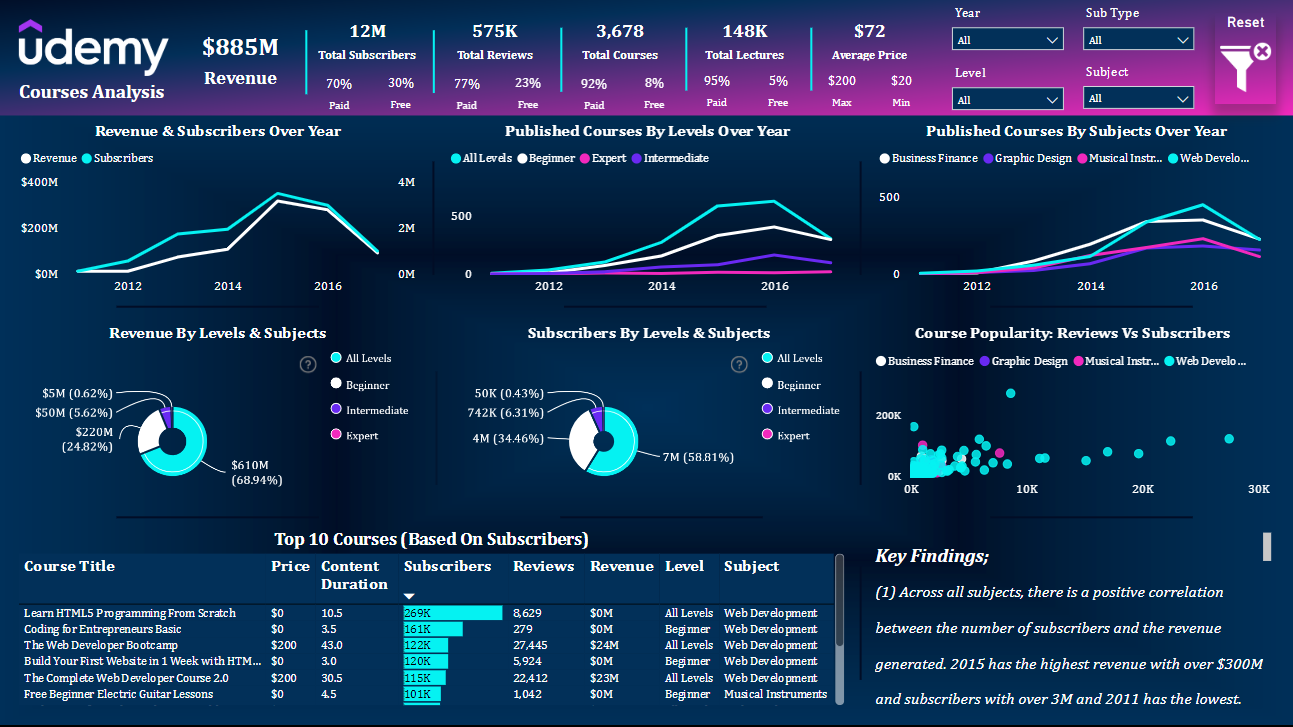

What the dashboard file says about the page in this screenshot:
{"tool":"powerbi","page":{"name":"Udemy Courses Analysis","canvas":[1280,720],"ordinal":0},"visuals":[{"type":"slicer","fields":{"Values":["Onyx Data -DataDNA Dataset Chal.published_date.Variation.Date Hierarchy.Year"]},"box":[930.5,0,130.5,60],"z":0},{"type":"slicer","fields":{"Values":["Onyx Data -DataDNA Dataset Chal.level"]},"box":[930.5,59,130.5,61],"z":1000},{"type":"slicer","fields":{"Values":["Onyx Data -DataDNA Dataset Chal.subject"]},"box":[1061,58.5,129.7,61.5],"z":2000},{"type":"slicer","fields":{"Values":["Onyx Data -DataDNA Dataset Chal.Paid or Free"]},"box":[1060.1,0,130,60],"z":3000},{"type":"card","fields":{"Values":["Measurement.Average Price"]},"box":[800,13.3,120,52.4],"z":4000},{"type":"group","id":"g1","title":"Group 2","box":[14.5,13.3,161.6,114.6],"z":5000},{"type":"card","fields":{"Values":["Measurement.Revenue"]},"box":[178.5,0,119.4,115.8],"z":6000},{"type":"card","fields":{"Values":["Measurement.Total Subscribers"]},"box":[303.9,13.3,120,52],"z":7000},{"type":"card","fields":{"Values":["Measurement.Total Lectures"]},"box":[677,13,120,52],"z":8000},{"type":"card","fields":{"Values":["Measurement.Maximum Price"]},"box":[802,64.7,60,50],"z":9000},{"type":"card","fields":{"Values":["Measurement.Total Review"]},"box":[429.3,13.3,120,52],"z":10000},{"type":"card","fields":{"Values":["Measurement.Total Courses"]},"box":[553.6,13.3,120,52],"z":11000},{"type":"image","title":"Reset","box":[1201.2,13.3,60.3,90.5],"z":12000},{"type":"ZoomChartsPieChartPaidE77E4ED357DC402ABA005987437CF500","title":"Revenue By Levels & Subjects","fields":{"Category":["Onyx Data -DataDNA Dataset Chal.level","Onyx Data -DataDNA Dataset Chal.subject"],"Values":["Measurement.Revenue"]},"box":[16.2,320,400,180],"z":13000},{"type":"ZoomChartsPieChartPaidE77E4ED357DC402ABA005987437CF500","title":"Subscribers By Levels & Subjects","fields":{"Category":["Onyx Data -DataDNA Dataset Chal.level","Onyx Data -DataDNA Dataset Chal.Paid or Free","Onyx Data -DataDNA Dataset Chal.subject"],"Values":["Measurement.Total Subscribers"]},"box":[442.5,320,400,180],"z":14000},{"type":"lineChart","title":"Revenue & Subscribers Over Year","fields":{"Category":["Onyx Data -DataDNA Dataset Chal.published_date.Variation.Date Hierarchy.Year","Onyx Data -DataDNA Dataset Chal.published_date.Variation.Date Hierarchy.Quarter","Onyx Data -DataDNA Dataset Chal.published_date.Variation.Date Hierarchy.Month","Onyx Data -DataDNA Dataset Chal.published_date.Variation.Date Hierarchy.Day"],"Y2":["Measurement.Total Subscribers"],"Y":["Measurement.Revenue"]},"box":[15.6,120,400,180],"z":15000},{"type":"lineChart","title":"Published Courses By Levels Over Year","fields":{"Category":["Onyx Data -DataDNA Dataset Chal.published_date.Variation.Date Hierarchy.Year","Onyx Data -DataDNA Dataset Chal.published_date.Variation.Date Hierarchy.Quarter","Onyx Data -DataDNA Dataset Chal.published_date.Variation.Date Hierarchy.Month","Onyx Data -DataDNA Dataset Chal.published_date.Variation.Date Hierarchy.Day"],"Series":["Onyx Data -DataDNA Dataset Chal.level"],"Y":["Measurement.Total Courses"]},"box":[441.2,120,400,180],"z":16000},{"type":"image","box":[14.5,13.3,157.9,69.2],"z":17000,"group":"g1"},{"type":"lineChart","title":"Published Courses By Subjects Over Year","fields":{"Category":["Onyx Data -DataDNA Dataset Chal.published_date.Variation.Date Hierarchy.Year","Onyx Data -DataDNA Dataset Chal.published_date.Variation.Date Hierarchy.Quarter","Onyx Data -DataDNA Dataset Chal.published_date.Variation.Date Hierarchy.Month","Onyx Data -DataDNA Dataset Chal.published_date.Variation.Date Hierarchy.Day"],"Series":["Onyx Data -DataDNA Dataset Chal.subject"],"Y":["Measurement.Total Courses"]},"box":[863.8,120,400,180],"z":17000},{"type":"textbox","box":[14.5,64,161.6,63.9],"z":18000,"group":"g1"},{"type":"scatterChart","title":"Course Popularity: Reviews Vs Subscribers","fields":{"Y":["Measurement.Total Subscribers"],"X":["Measurement.Total Review"],"Series":["Onyx Data -DataDNA Dataset Chal.subject"],"Category":["Onyx Data -DataDNA Dataset Chal.course_title"]},"box":[861.1,320,400,180],"z":18000},{"type":"pivotTable","title":"Top 10 Courses (Based On Subscribers)","fields":{"Rows":["Onyx Data -DataDNA Dataset Chal.course_title"],"Values":["Sum(Onyx Data -DataDNA Dataset Chal.price)","Sum(Onyx Data -DataDNA Dataset Chal.content_duration)","Measurement.Total Subscribers","Measurement.Total Review","Measurement.Revenue","Min(Onyx Data -DataDNA Dataset Chal.level)","Min(Onyx Data -DataDNA Dataset Chal.subject)"]},"box":[15,522.5,825,180],"z":19000},{"type":"textbox","box":[860,522.5,401.2,181.2],"z":20000},{"type":"shape","box":[116,287.5,200,32.5],"z":21000},{"type":"shape","box":[116.2,496.2,200,31.2],"z":22000},{"type":"shape","box":[558,287.5,200,32.5],"z":23000},{"type":"shape","box":[553.8,496.2,200,31.2],"z":24000},{"type":"shape","box":[979,287.5,200,32.5],"z":25000},{"type":"shape","box":[978.8,496.2,200,31.2],"z":26000},{"type":"shape","box":[416,160,26,112],"z":27000},{"type":"shape","box":[840,160,23,112],"z":28000},{"type":"shape","box":[416,368,32,112],"z":29000},{"type":"shape","box":[840,368,23,112],"z":30000},{"type":"shape","box":[840,560,23,112],"z":31000},{"type":"card","fields":{"Values":["Measurement.Minimum Price"]},"box":[863.3,64.7,56.7,50],"z":32000},{"type":"card","fields":{"Values":["Measurement.Percentage Of Paid Courses Lectures"]},"box":[679.3,64.7,60,50],"z":33000},{"type":"card","fields":{"Values":["Measurement.Percentage Of Free Courses Lectures"]},"box":[739.3,64.7,60,50],"z":34000},{"type":"shape","box":[298,30.7,12,63.3],"z":37000},{"type":"shape","box":[423,30.7,12,62],"z":38000},{"type":"shape","box":[549.1,28.9,12,63.3],"z":39000},{"type":"shape","box":[673,28,12,62],"z":40000},{"type":"shape","box":[796,29,12,62],"z":41000},{"type":"card","fields":{"Values":["Measurement.Percentage Of Paid Courses Subscribers"]},"box":[306.4,66.1,60,50],"z":42000},{"type":"card","fields":{"Values":["Measurement.Percentage Of Free Courses Subscribers"]},"box":[366.4,65.5,60,50],"z":43000},{"type":"card","fields":{"Values":["Measurement.Percentage Of Paid Courses Review"]},"box":[432.1,66.5,60,50],"z":44000},{"type":"card","fields":{"Values":["Measurement.Percentage Of Free Courses Review"]},"box":[492.1,65.9,60,50],"z":45000},{"type":"card","fields":{"Values":["Measurement.% Of Paid Course"]},"box":[558,66.7,60,50.7],"z":46000},{"type":"card","fields":{"Values":["Measurement.% Of Free Course"]},"box":[617.9,65.7,60,50],"z":47000}]}

Visuals, with their boxes in screenshot pixels (x1, y1, x2, y2), scaled from the page's 1280x720 canvas onto the 1293x727 screenshot:
slicer - Onyx Data -DataDNA Dataset Chal.published_date.Variation.Date Hierarchy.Year: 940:0:1072:61
slicer - Onyx Data -DataDNA Dataset Chal.level: 940:60:1072:121
slicer - Onyx Data -DataDNA Dataset Chal.subject: 1072:59:1203:121
slicer - Onyx Data -DataDNA Dataset Chal.Paid or Free: 1071:0:1202:61
card - Measurement.Average Price: 808:13:929:66
"Group 2" group: 15:13:178:129
card - Measurement.Revenue: 180:0:301:117
card - Measurement.Total Subscribers: 307:13:428:66
card - Measurement.Total Lectures: 684:13:805:66
card - Measurement.Maximum Price: 810:65:871:116
card - Measurement.Total Review: 434:13:555:66
card - Measurement.Total Courses: 559:13:680:66
"Reset" image: 1213:13:1274:105
"Revenue By Levels & Subjects" ZoomChartsPieChartPaidE77E4ED357DC402ABA005987437CF500: 16:323:420:505
"Subscribers By Levels & Subjects" ZoomChartsPieChartPaidE77E4ED357DC402ABA005987437CF500: 447:323:851:505
"Revenue & Subscribers Over Year" lineChart: 16:121:420:303
"Published Courses By Levels Over Year" lineChart: 446:121:850:303
image: 15:13:174:83
"Published Courses By Subjects Over Year" lineChart: 873:121:1277:303
textbox: 15:65:178:129
"Course Popularity: Reviews Vs Subscribers" scatterChart: 870:323:1274:505
"Top 10 Courses (Based On Subscribers)" pivotTable: 15:528:849:709
textbox: 869:528:1274:711
shape: 117:290:319:323
shape: 117:501:319:533
shape: 564:290:766:323
shape: 559:501:761:533
shape: 989:290:1191:323
shape: 989:501:1191:533
shape: 420:162:446:275
shape: 849:162:872:275
shape: 420:372:453:485
shape: 849:372:872:485
shape: 849:565:872:679
card - Measurement.Minimum Price: 872:65:929:116
card - Measurement.Percentage Of Paid Courses Lectures: 686:65:747:116
card - Measurement.Percentage Of Free Courses Lectures: 747:65:807:116
shape: 301:31:313:95
shape: 427:31:439:94
shape: 555:29:567:93
shape: 680:28:692:91
shape: 804:29:816:92
card - Measurement.Percentage Of Paid Courses Subscribers: 310:67:370:117
card - Measurement.Percentage Of Free Courses Subscribers: 370:66:431:117
card - Measurement.Percentage Of Paid Courses Review: 436:67:497:118
card - Measurement.Percentage Of Free Courses Review: 497:67:558:117
card - Measurement.% Of Paid Course: 564:67:624:119
card - Measurement.% Of Free Course: 624:66:685:117
